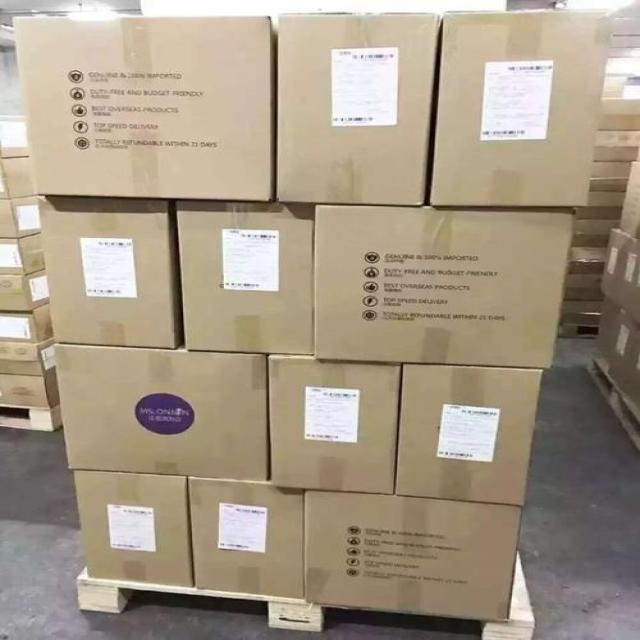box: (12, 16, 275, 202), (314, 203, 576, 369), (430, 10, 614, 206), (276, 14, 442, 206), (52, 344, 269, 484), (303, 489, 525, 623), (37, 195, 183, 349), (174, 198, 314, 354), (393, 362, 541, 507), (269, 353, 403, 496), (187, 477, 305, 601), (74, 470, 193, 587), (0, 369, 59, 408), (0, 338, 55, 375), (0, 304, 52, 343), (0, 269, 47, 311), (0, 233, 45, 275), (0, 195, 41, 239), (0, 157, 36, 200), (0, 115, 29, 157)
